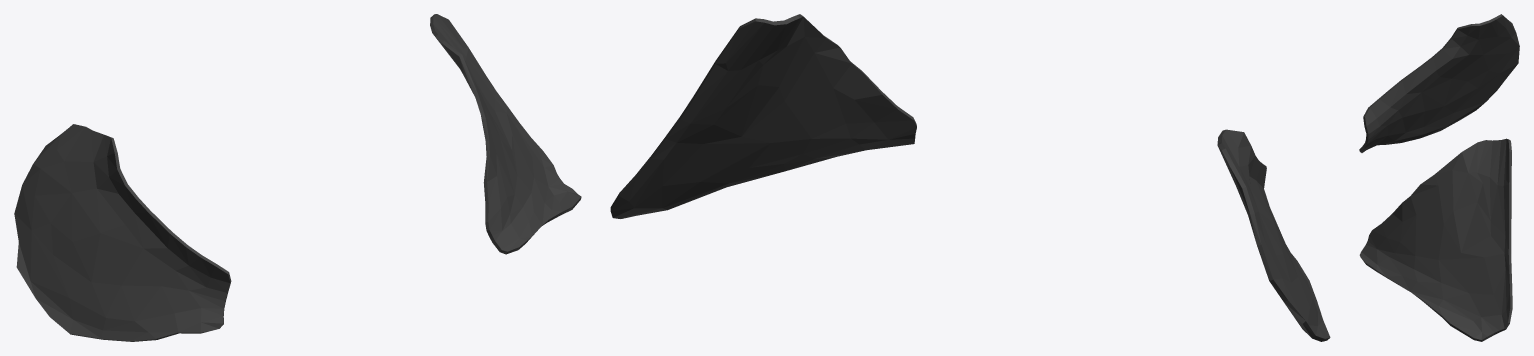
Rendered from c1_caudal_articular_faces.glb.
The picture shows the model from 3 angles, left to right: view 1: azimuth 30°, elevation 25°; view 2: azimuth 150°, elevation 25°; view 3: azimuth 270°, elevation 25°; orthographic projection. The views are drawn at different scales.
Visible parts, largest first — view 1: c1_caudal_articular_faces; view 2: c1_caudal_articular_faces; view 3: c1_caudal_articular_faces.
Part boxes in pixels (x1,y1,x2,y2): c1_caudal_articular_faces: (14,14,581,341); c1_caudal_articular_faces: (610,14,1330,341); c1_caudal_articular_faces: (1359,14,1519,341).
Bounding box in the file's own units: 39.32 × 13.64 × 12.79.
1 material, 1 textured.
